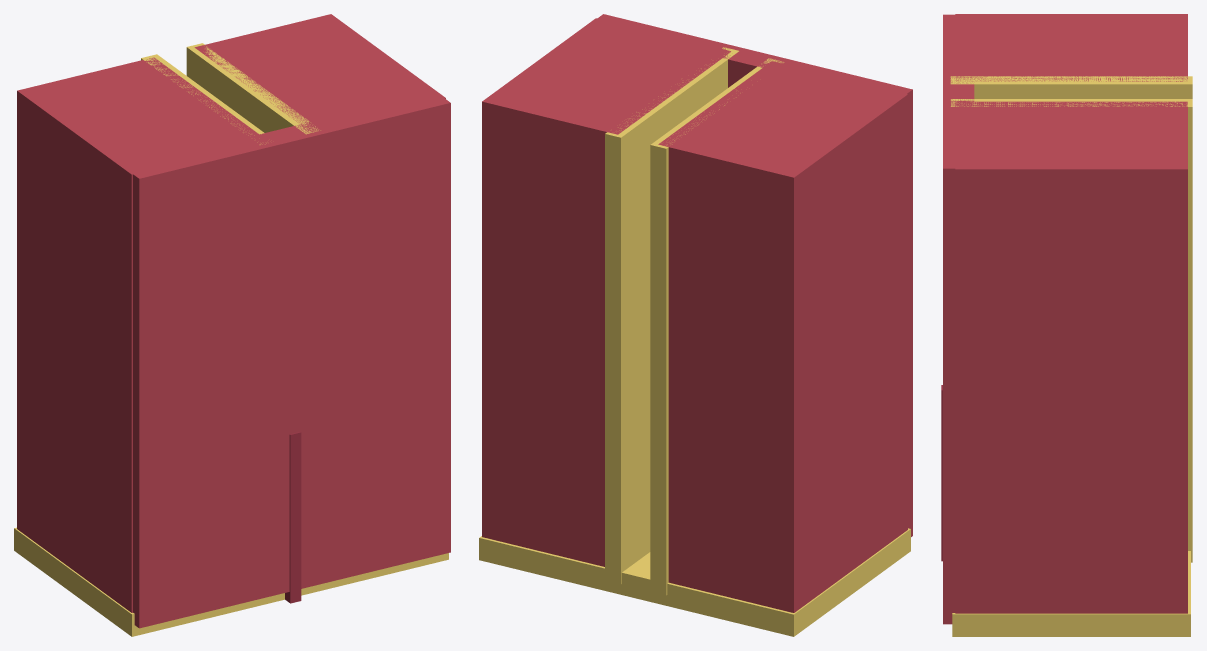
Rendered from capitao_vermelho_saia.glb.
3 views of the same model, side by side, from view 1: azimuth 30°, elevation 25°; view 2: azimuth 150°, elevation 25°; view 3: azimuth 270°, elevation 25° (orthographic). The views are drawn at different scales.
Visible parts, largest first — view 1: capitao_vermelho_saia; view 2: capitao_vermelho_saia; view 3: capitao_vermelho_saia.
Part boxes in pixels (x1,y1,x2,y2): capitao_vermelho_saia: (14,14,450,636); capitao_vermelho_saia: (479,14,912,636); capitao_vermelho_saia: (941,14,1192,636).
Size of the model in its own units: 0.59 by 0.82 by 0.4.
